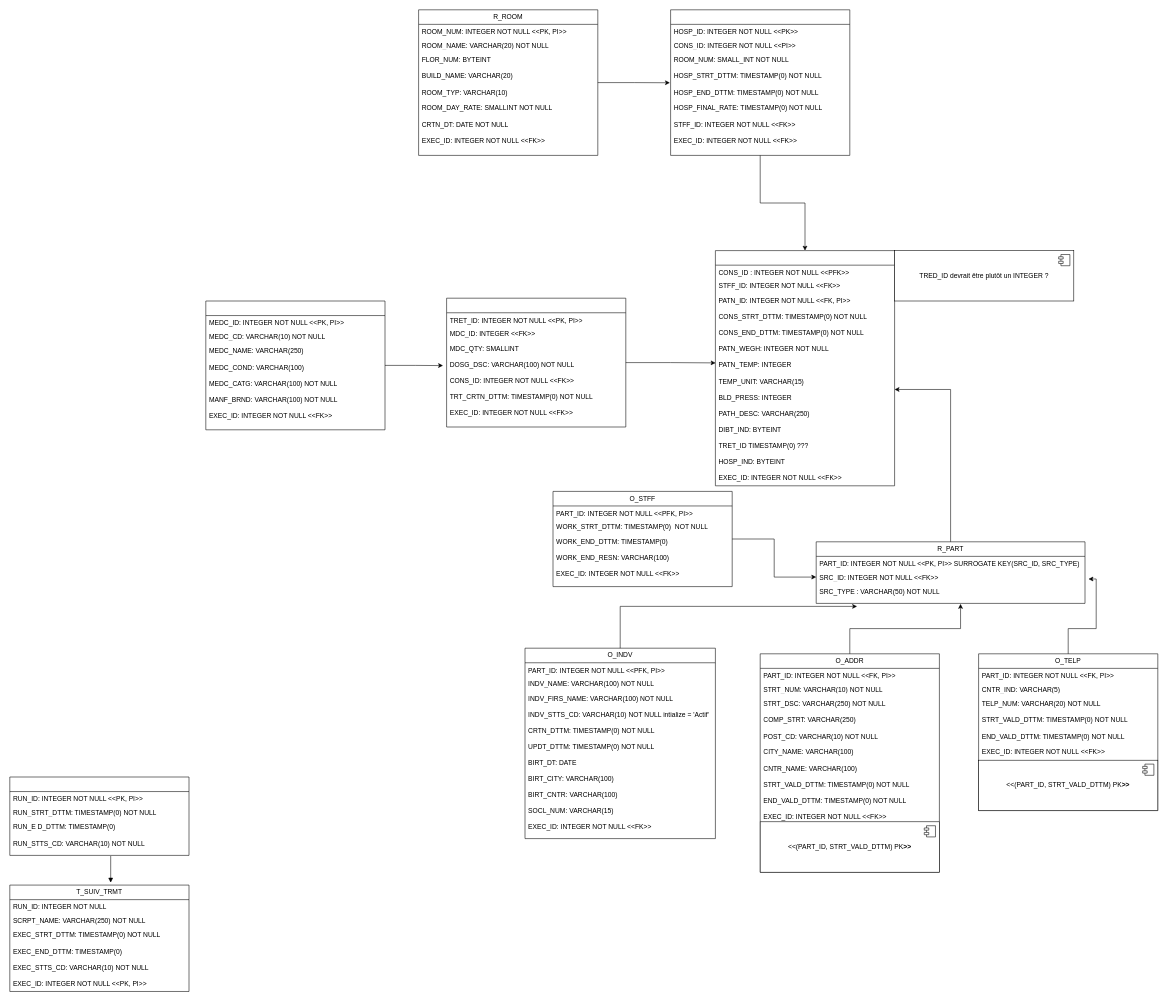
Some shapes in this 1168 by 1003 pixel diagram are drawn without their labels. The box of each missing label's shape, as (x1, y1, x2, y2) in pixels:
O_CONS: (715, 250, 895, 486)
O_HOSP: (670, 9, 850, 155)
O_TRET: (446, 298, 626, 427)
R_MEDC: (205, 300, 385, 430)
T_SUIV_RUN: (9, 776, 189, 855)
